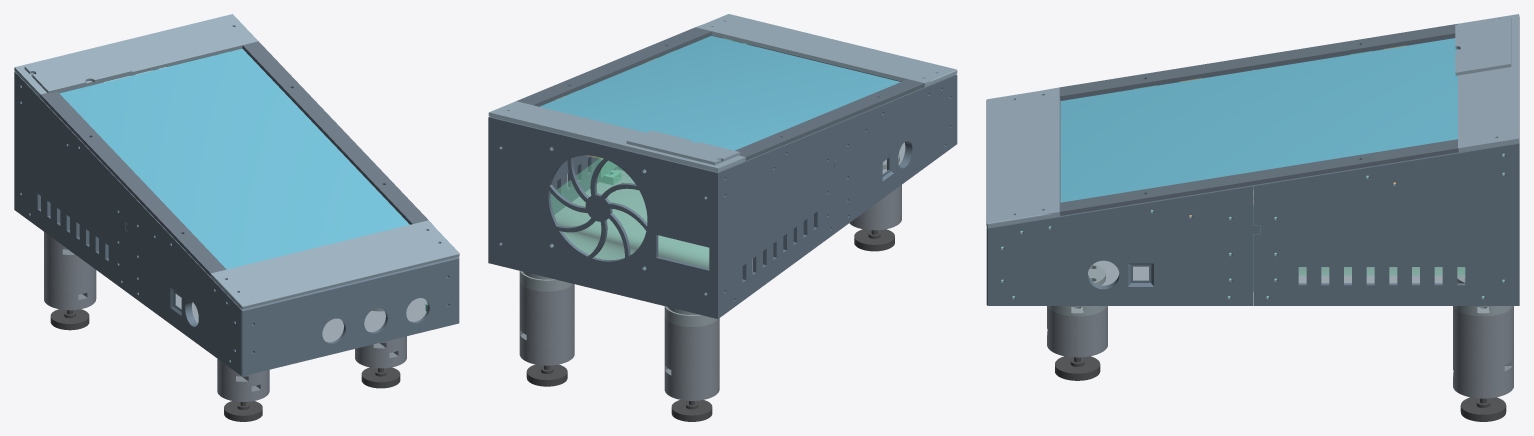
File: cabinet.glb
3 views of the same model, side by side, from view 1: azimuth 30°, elevation 25°; view 2: azimuth 150°, elevation 25°; view 3: azimuth 270°, elevation 25° (orthographic). The views are drawn at different scales.
Visible parts, largest first — view 1: REFERENCE_Monitor, left_rear_wall, front_button_panel, left_front_wall, front_cable_lid, rear_control_deck, bezel_right_a1_a2, bezel_left_one_piece, control_hatch, foot_extension_left_rear_2_40mm, bottom_front, foot_terminal_left_front (+7 smaller); view 2: rear_vent_panel, REFERENCE_Monitor, left_rear_wall, left_front_wall, front_cable_lid, REFERENCE_Dell_3050, bottom_rear, rear_control_deck, bezel_right_a1_a2, bezel_left_one_piece, foot_extension_left_rear_2_40mm, foot_extension_right_rear_2_40mm (+13 smaller); view 3: REFERENCE_Monitor, right_rear_wall, right_front_wall, front_cable_lid, bezel_right_a1_a2, bezel_left_one_piece, rear_control_deck, control_hatch, foot_extension_right_rear_2_40mm, foot_terminal_right_front, foot_terminal_right_rear, foot_extension_right_front_1_20mm (+8 smaller).
Part boxes in pixels (x1,y1,x2,y2): REFERENCE_Monitor: [59, 48, 409, 269]; left_rear_wall: [14, 71, 128, 292]; front_button_panel: [244, 257, 456, 375]; left_front_wall: [125, 191, 245, 376]; front_cable_lid: [210, 220, 459, 309]; rear_control_deck: [14, 14, 258, 97]; bezel_right_a1_a2: [242, 41, 428, 224]; bezel_left_one_piece: [40, 91, 226, 275]; control_hatch: [24, 46, 132, 93]; foot_extension_left_rear_2_40mm: [44, 248, 96, 292]; bottom_front: [176, 294, 427, 342]; foot_terminal_left_front: [217, 374, 269, 401]; rear_vent_panel: [492, 117, 715, 318]; REFERENCE_Monitor: [540, 36, 900, 150]; left_rear_wall: [714, 123, 837, 318]; left_front_wall: [834, 74, 957, 230]; front_cable_lid: [696, 14, 957, 86]; REFERENCE_Dell_3050: [550, 158, 709, 268]; bottom_rear: [554, 175, 752, 271]; rear_control_deck: [488, 101, 745, 172]; bezel_right_a1_a2: [516, 27, 712, 106]; bezel_left_one_piece: [735, 79, 924, 160]; foot_extension_left_rear_2_40mm: [664, 335, 719, 382]; foot_extension_right_rear_2_40mm: [519, 300, 574, 346]; REFERENCE_Monitor: [1060, 38, 1457, 202]; right_rear_wall: [1253, 142, 1519, 305]; right_front_wall: [986, 185, 1259, 305]; front_cable_lid: [986, 87, 1060, 227]; bezel_right_a1_a2: [1059, 139, 1458, 215]; bezel_left_one_piece: [1059, 23, 1457, 100]; rear_control_deck: [1458, 14, 1519, 152]; control_hatch: [1455, 16, 1511, 75]; foot_extension_right_rear_2_40mm: [1453, 326, 1513, 377]; foot_terminal_right_front: [1047, 326, 1107, 357]; foot_terminal_right_rear: [1453, 367, 1513, 398]; foot_extension_right_front_1_20mm: [1047, 306, 1107, 336].
Size of the model in its own units: 0.26 by 0.2906 by 0.4705.
